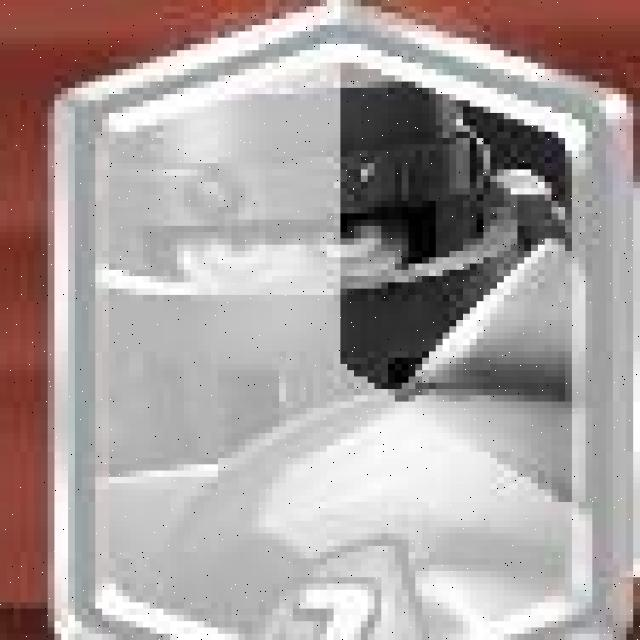Mega_Knight: (70, 8, 640, 640)
